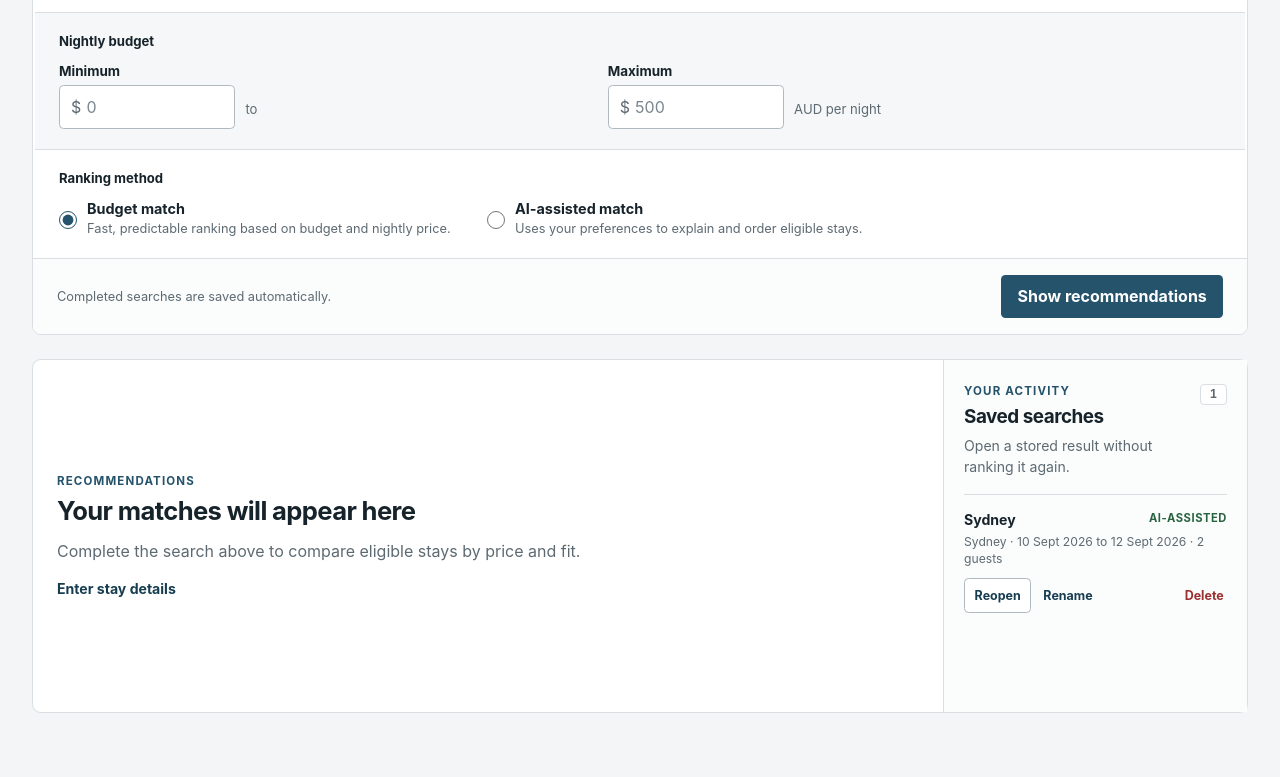
App › renames the displayed search and confirms deletion of saved history
The width and height of the screenshot is (1280, 777).
(page scrolled)
Step 1. Click the button "Reopen" → (998, 595), box x1=964 y1=578 x2=1031 y2=613
(page scrolled)
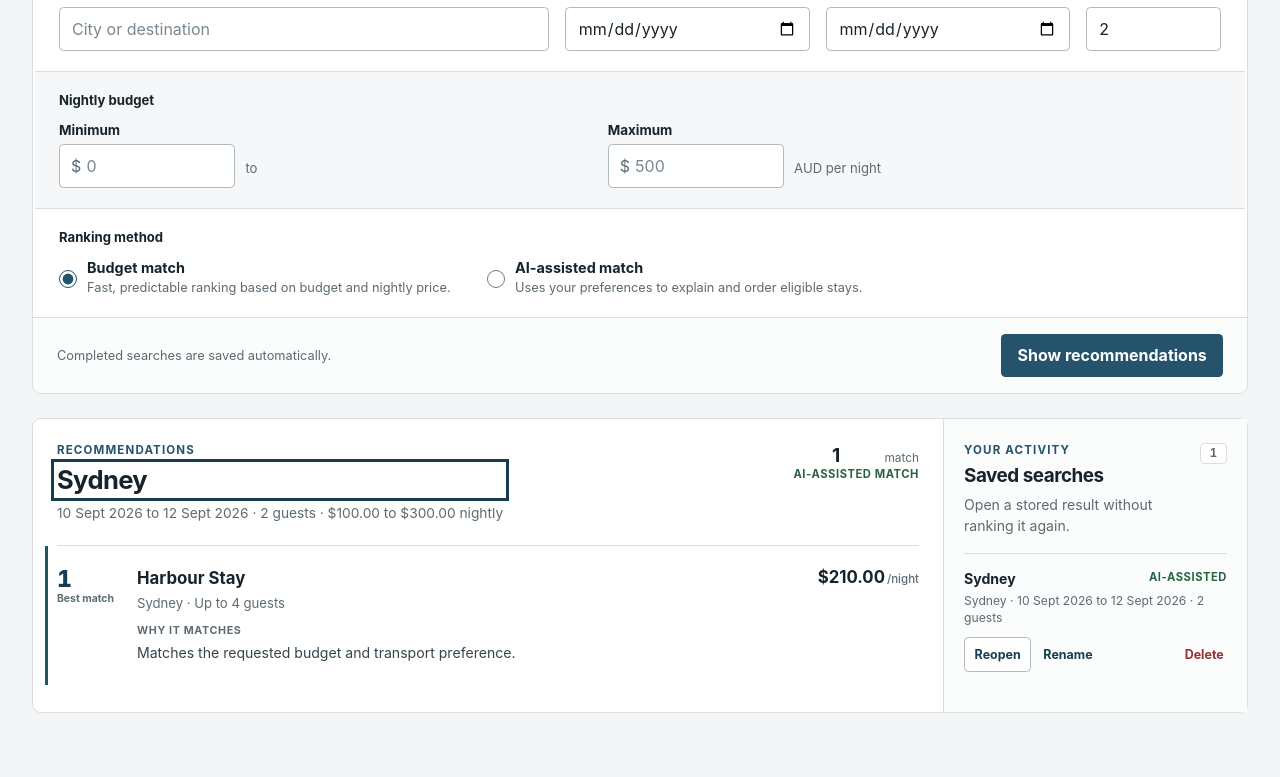
Step 2. Click the button "Rename" → (1068, 654), box x1=1040 y1=638 x2=1096 y2=670
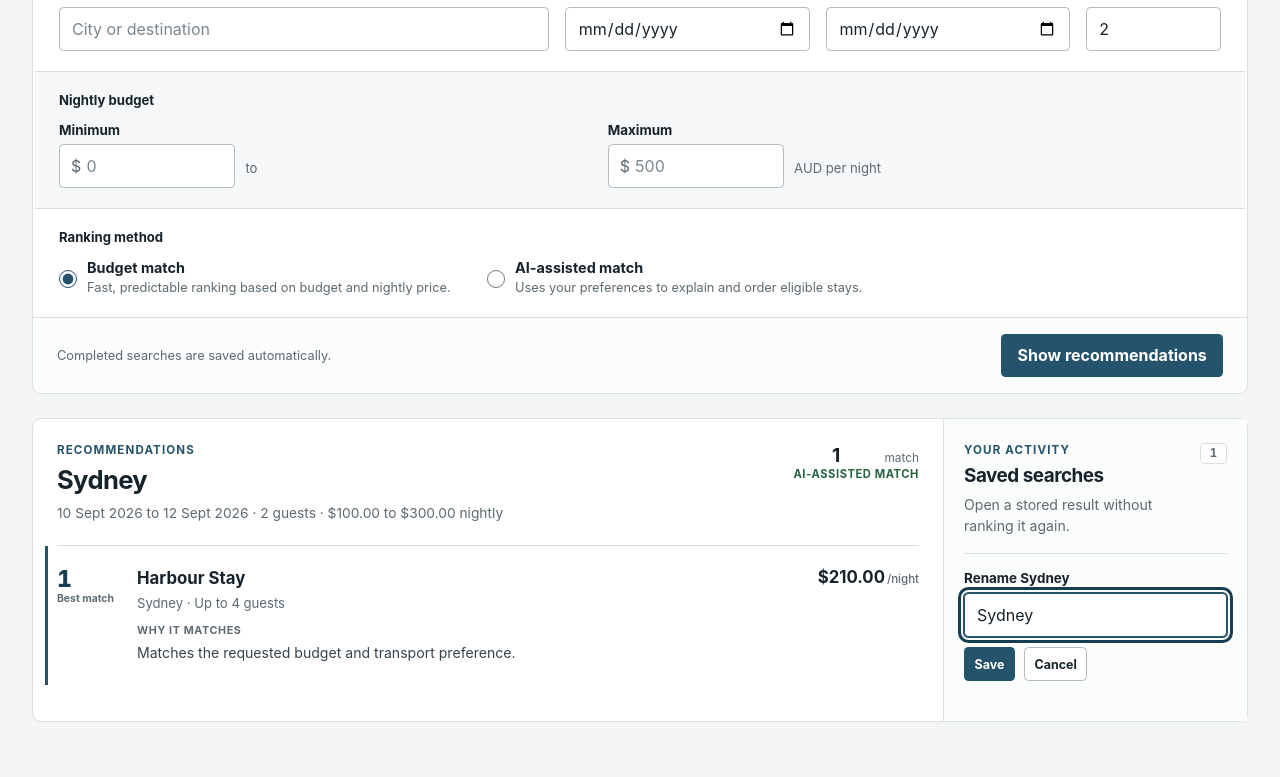
Step 3. Replace the text in the field labelled "Rename Sydney" with "Anniversary trip" → (1096, 615), box x1=964 y1=593 x2=1227 y2=637
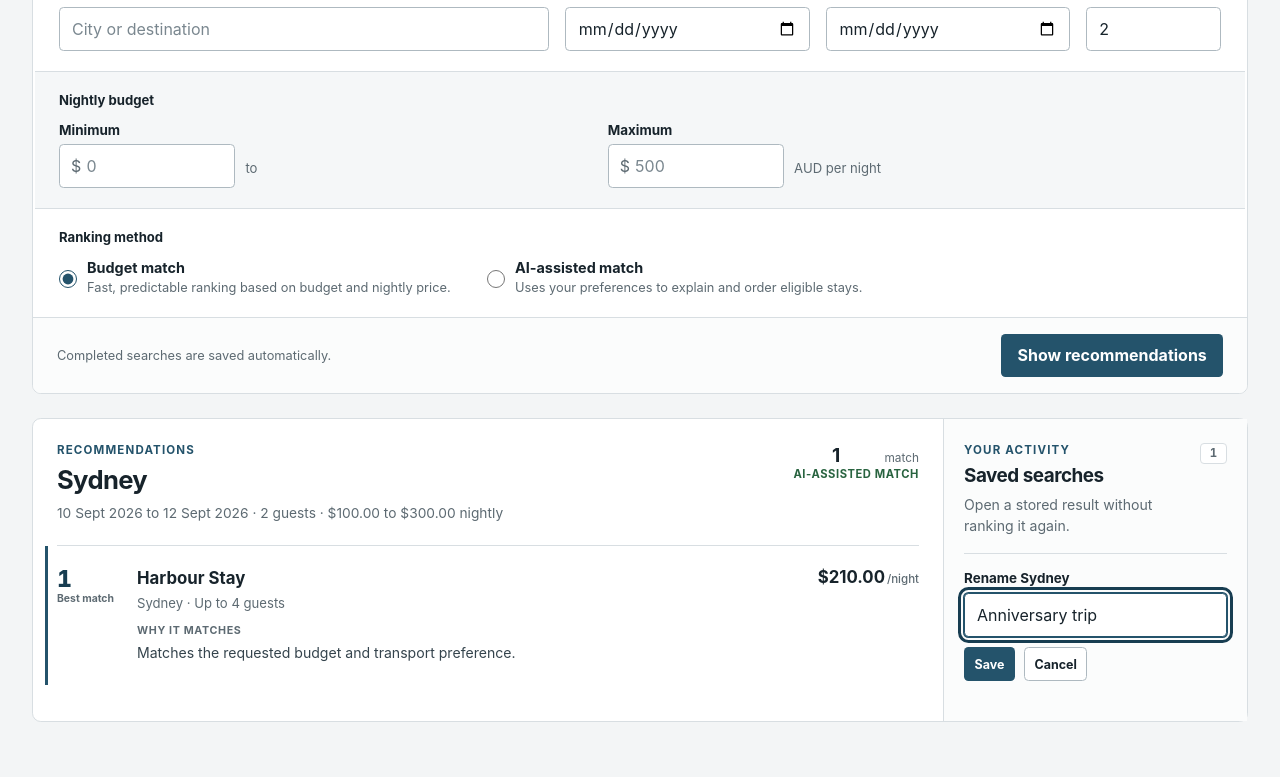
Step 4. Submit the form with class "rename-form", box x1=964 y1=570 x2=1227 y2=681
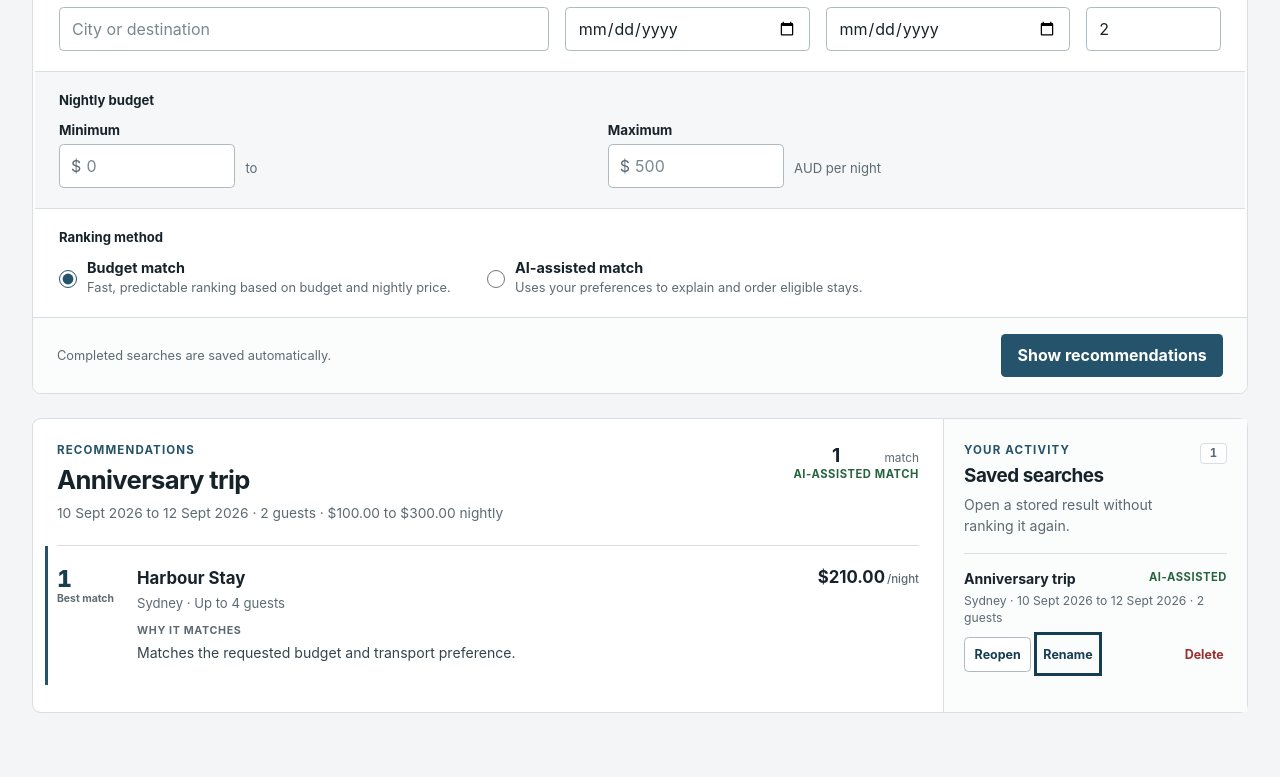
Result: the heading with id "results-heading" reads "Anniversary trip" at x1=57 y1=464 x2=250 y2=494
Step 5. Click the button with class "button-link-danger" → (1204, 654), box x1=1182 y1=638 x2=1227 y2=670
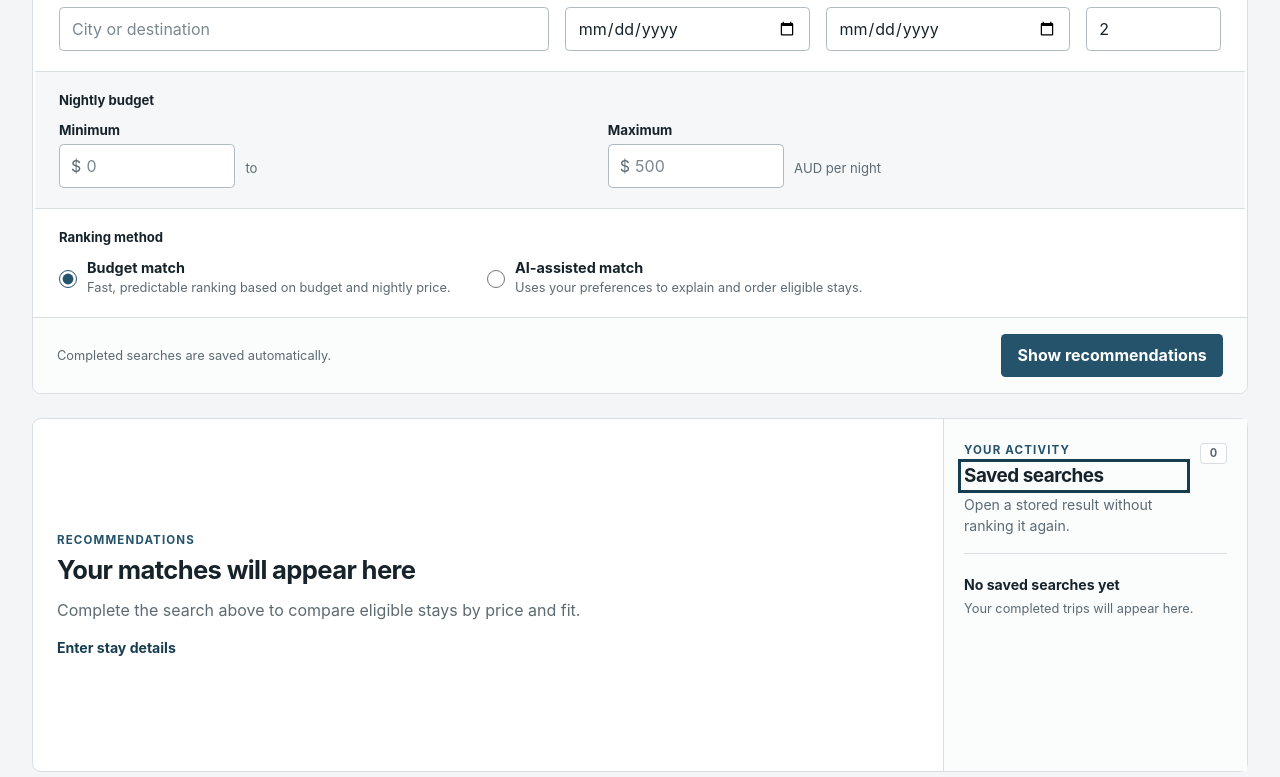
Result: the text "No saved searches yet" is shown at x1=964 y1=576 x2=1120 y2=593
